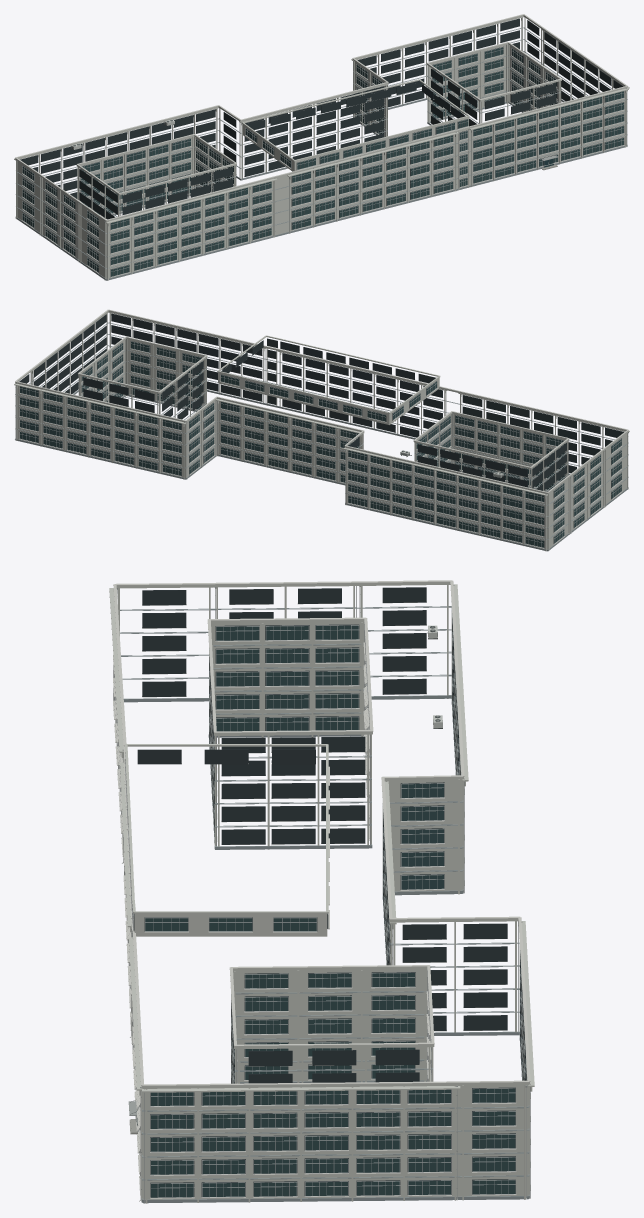
The model's file is osm_way_155434036.glb.
3 views of the same model, one above another, from view 1: azimuth 30°, elevation 25°; view 2: azimuth 150°, elevation 25°; view 3: azimuth 270°, elevation 25° (orthographic). The views are drawn at different scales.
Parts seen in each view (by area): view 1: Windows and facade details | 教3, Architecture | 教3, Roof services | 教3, EXTERIOR::osm_way_155434036::rainwater and roof service deta; view 2: Windows and facade details | 教3, Architecture | 教3, Roof services | 教3, EXTERIOR::osm_way_155434036::rainwater and roof service deta; view 3: Windows and facade details | 教3, Architecture | 教3, Roof services | 教3, EXTERIOR::osm_way_155434036::rainwater and roof service deta.
Boxes of the visible parts, x1,y1,x2,y2 form: Windows and facade details | 教3: [20, 18, 627, 280]; Architecture | 教3: [15, 15, 627, 280]; Roof services | 教3: [14, 14, 629, 226]; EXTERIOR::osm_way_155434036::rainwater and roof service deta: [39, 88, 626, 279]; Windows and facade details | 教3: [16, 313, 623, 548]; Architecture | 教3: [15, 310, 628, 551]; Roof services | 教3: [14, 309, 629, 498]; EXTERIOR::osm_way_155434036::rainwater and roof service deta: [15, 371, 628, 550]; Windows and facade details | 教3: [113, 586, 530, 1203]; Architecture | 教3: [113, 582, 530, 1203]; Roof services | 教3: [109, 580, 534, 1098]; EXTERIOR::osm_way_155434036::rainwater and roof service deta: [117, 585, 527, 1201].
Bounding box in the file's own units: 176 × 22.5 × 62.33.
